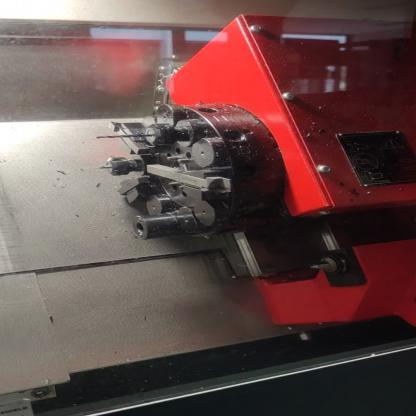bit: (143, 162, 240, 204), (103, 119, 160, 156), (113, 174, 157, 206)
